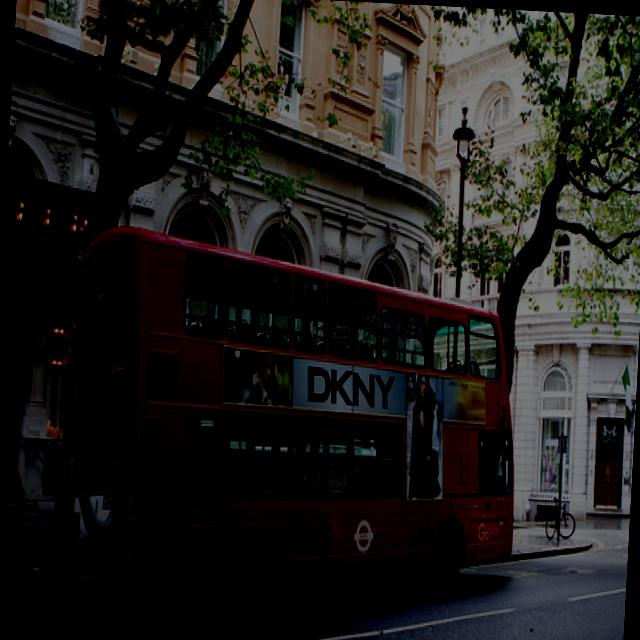Vehicle: (60, 226, 526, 626)
